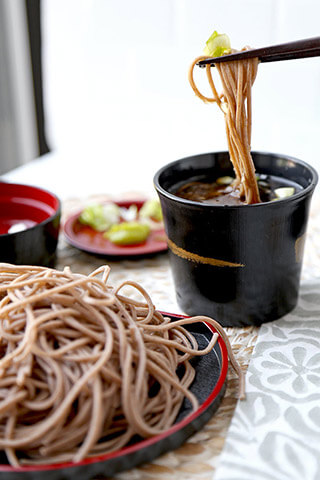Soba: (1, 263, 238, 466), (191, 41, 275, 221)
